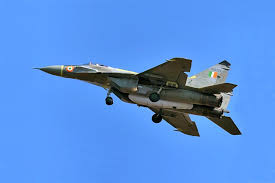Mig-29: (33, 46, 258, 139)
